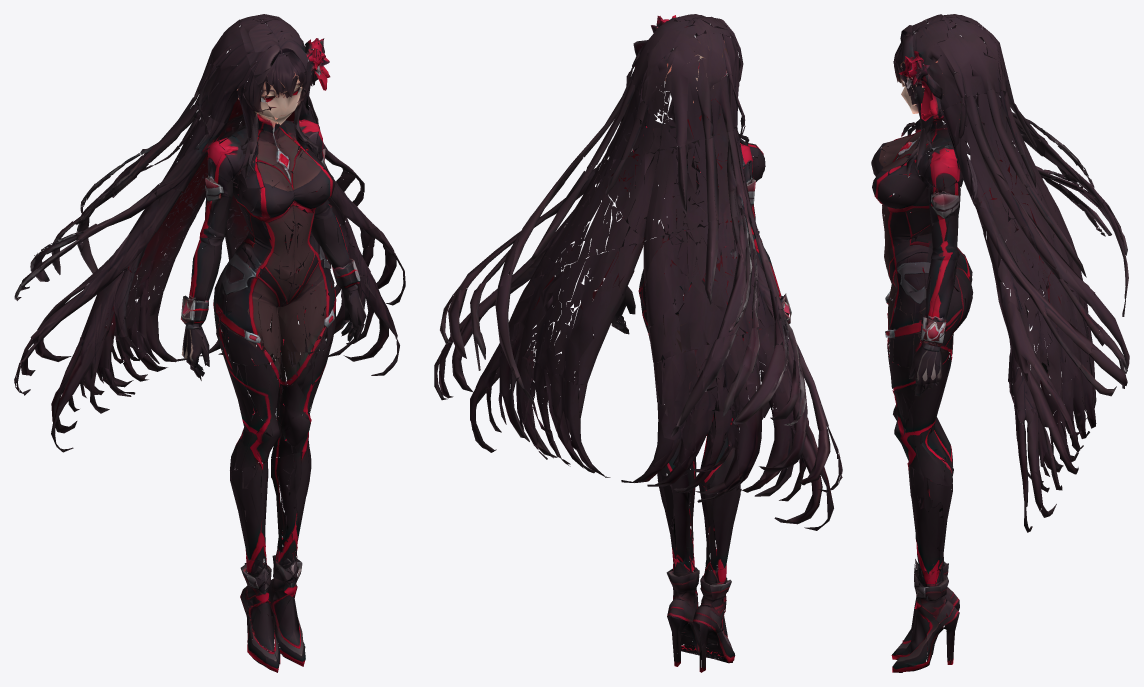
File: char_2.glb
3 views of the same model, side by side, from view 1: azimuth 30°, elevation 25°; view 2: azimuth 150°, elevation 25°; view 3: azimuth 270°, elevation 25° (orthographic). The views are drawn at different scales.
Visible parts, largest first — view 1: tripo_part_0; view 2: tripo_part_0; view 3: tripo_part_0.
Boxes of the visible parts, x1,y1,x2,y2 form: tripo_part_0: [14, 14, 405, 672]; tripo_part_0: [434, 14, 842, 672]; tripo_part_0: [871, 14, 1129, 672].
Size of the model in its own units: 1.1 by 1.7 by 0.6147.
Materials: 19 (19 with a texture image).
